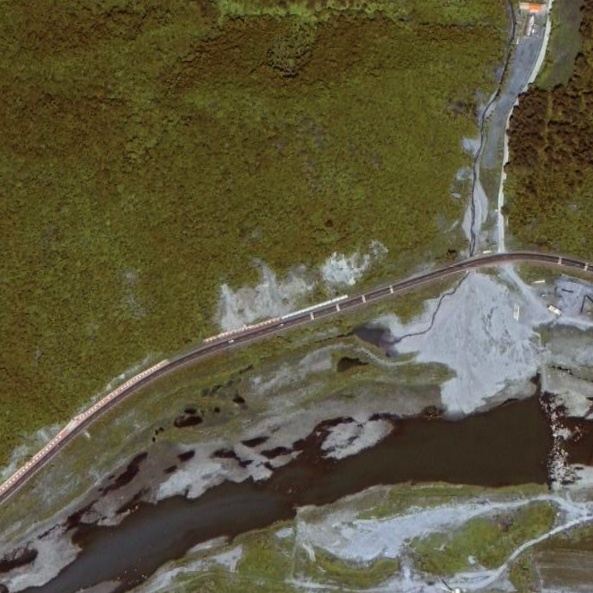slope: (389, 262, 556, 413), (209, 235, 392, 330)
